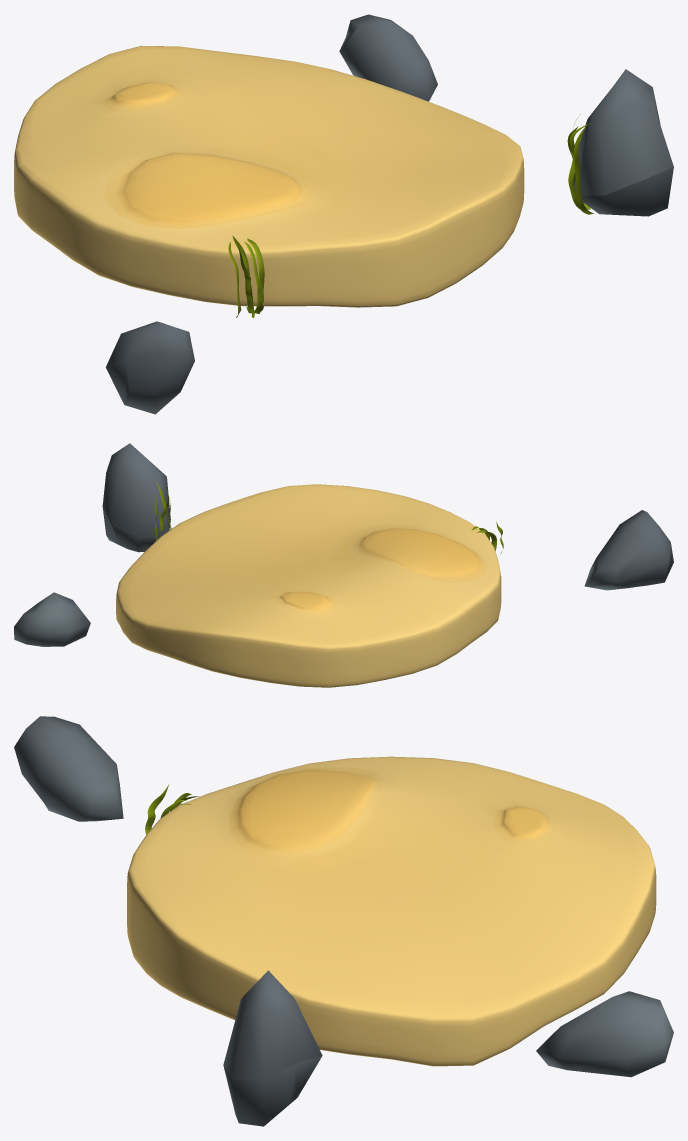
File: desert.fbx
3 renders of one model, top to bottom at view 1: azimuth 30°, elevation 25°; view 2: azimuth 150°, elevation 25°; view 3: azimuth 270°, elevation 25°, orthographic. The views are drawn at different scales.
Visible parts, largest first — view 1: Icosphere, Cube, NurbsPath, NurbsPath.001; view 2: Icosphere, Cube; view 3: Icosphere, Cube.
Part boxes in pixels (left/top/right/bottom): Icosphere: left=14, top=45, right=524, bottom=307; Cube: left=105, top=14, right=673, bottom=414; NurbsPath: left=228, top=235, right=264, bottom=317; NurbsPath.001: left=567, top=114, right=593, bottom=214; Icosphere: left=116, top=484, right=501, bottom=687; Cube: left=14, top=443, right=673, bottom=646; Icosphere: left=127, top=756, right=656, bottom=1066; Cube: left=14, top=716, right=673, bottom=1126.
Bounding box in the file's own units: 3099 × 649 × 2636.
1 material, 1 textured.
